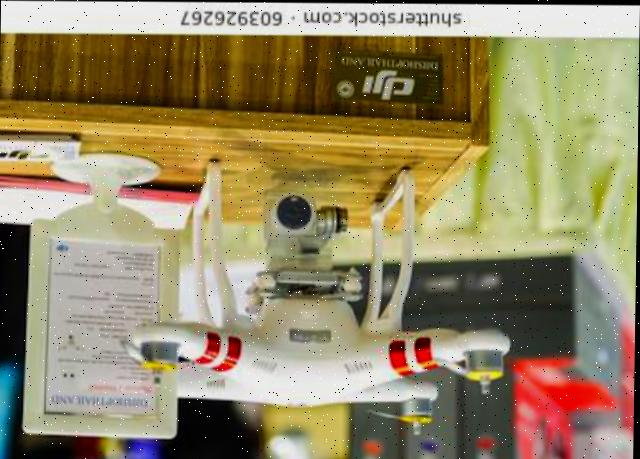drone: (0, 146, 638, 459)
